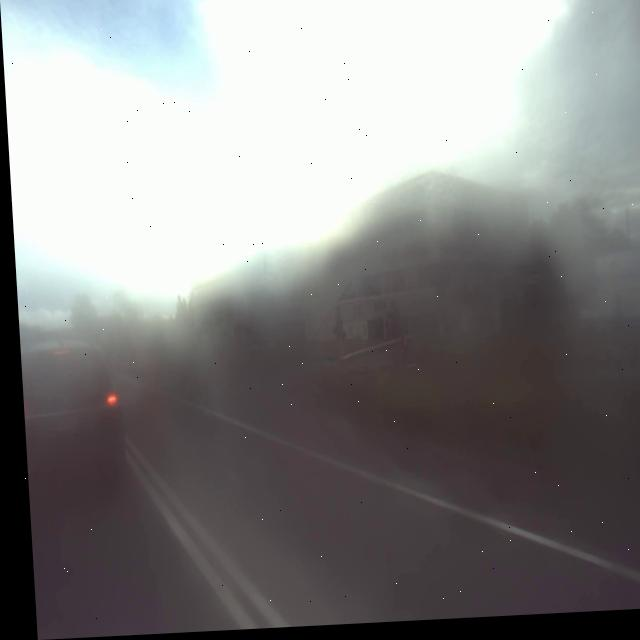car: (16, 330, 124, 488)
